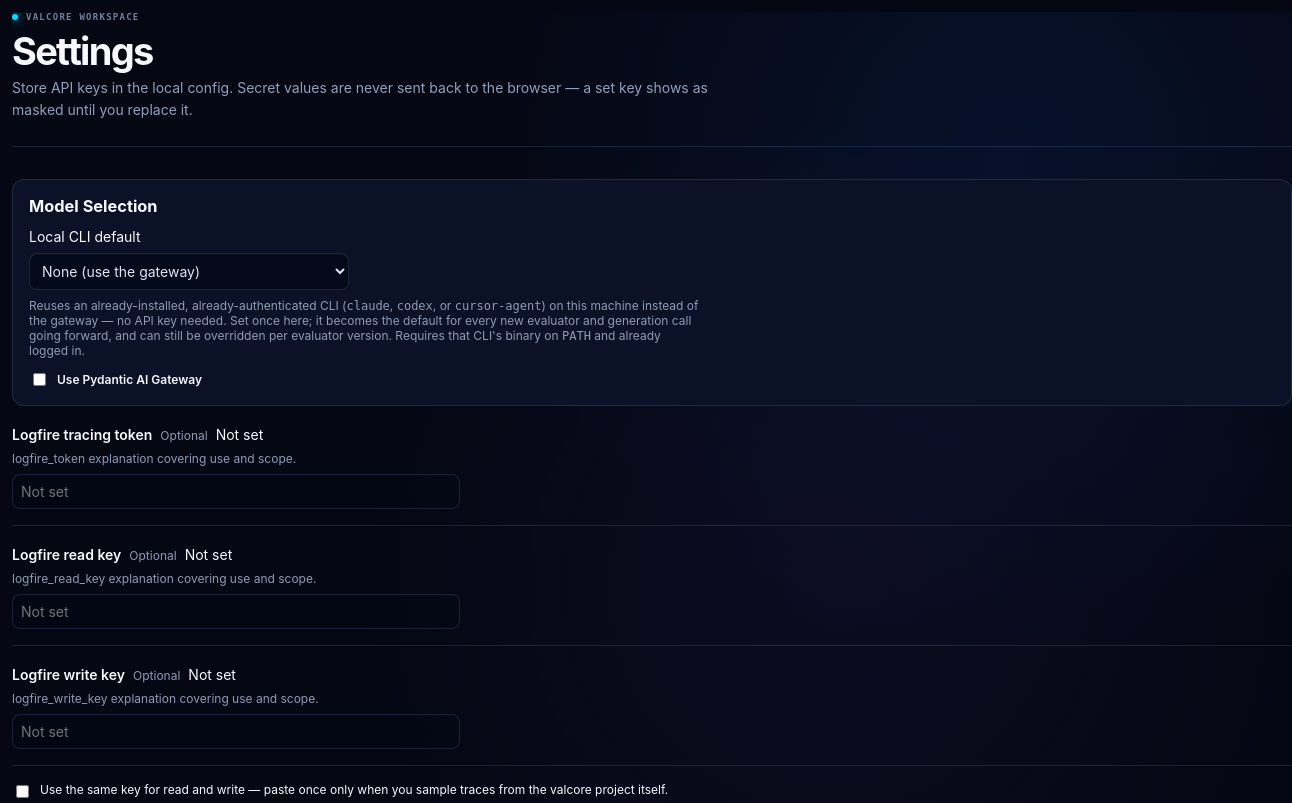
Test: SettingsPage › does not render the gateway key input until the checkbox is checked, unless already set
The width and height of the screenshot is (1292, 803).
Check: the heading "Model Selection" is shown, box [29,196,158,216]
Check: the field labelled "Pydantic AI Gateway key" is not shown
Click the checkbox labelled "Use Pydantic AI Gateway": coordinates (40, 379) [33,373,46,386]
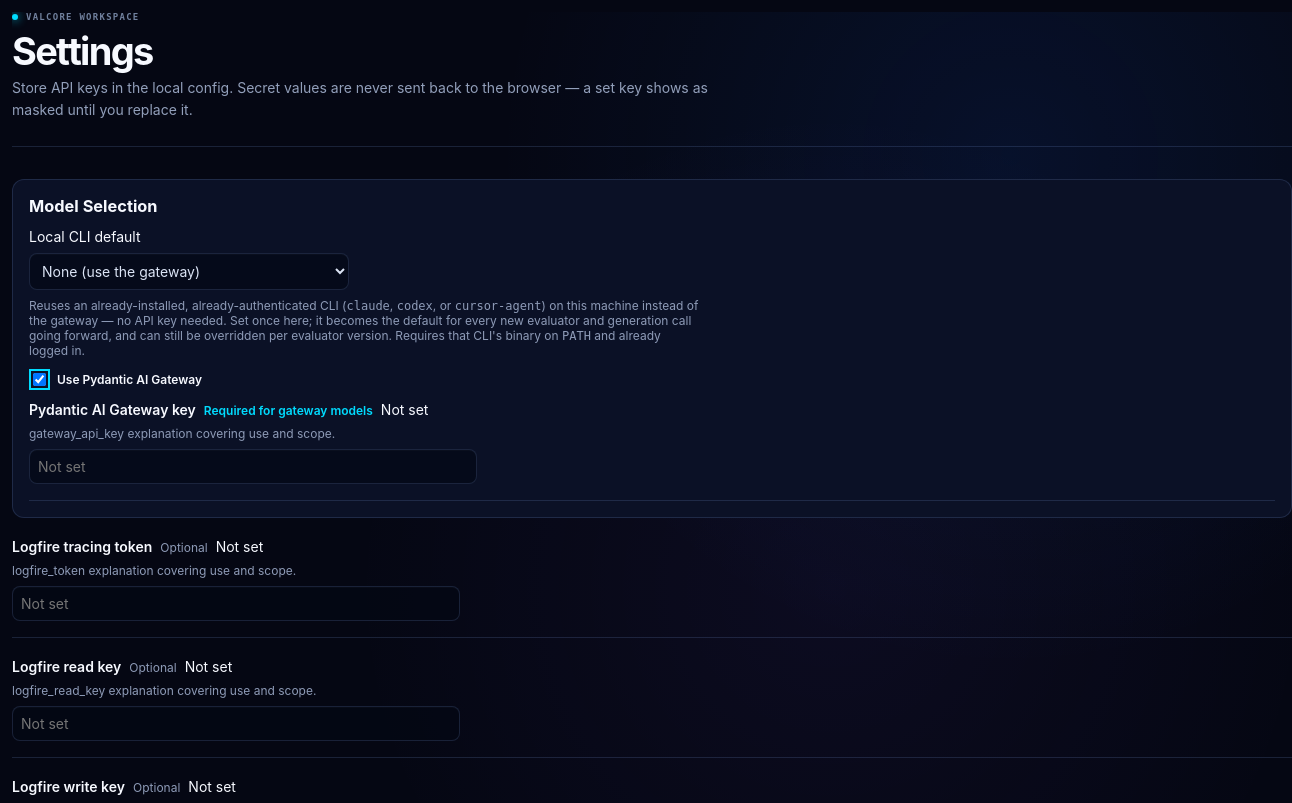
Check: the password field labelled "Pydantic AI Gateway key" is shown, box [29,449,477,484]
